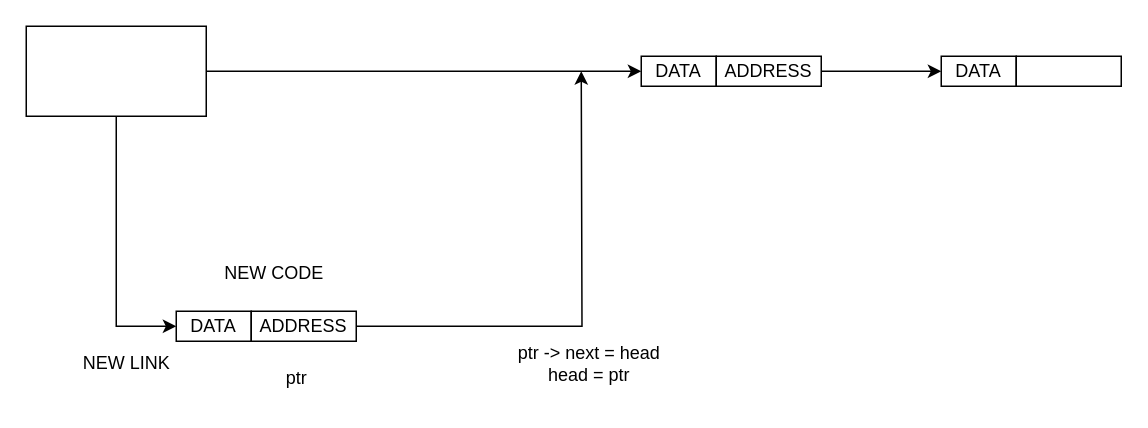
Image size: 1148x428. Some labels were removed from this diagram. The shapes that lost their labels are listed below. From the top down, each one's centre as x and y in pixels, then its label:
At point 115,70: "HEAD".
At point 1068,70: "NULL".
